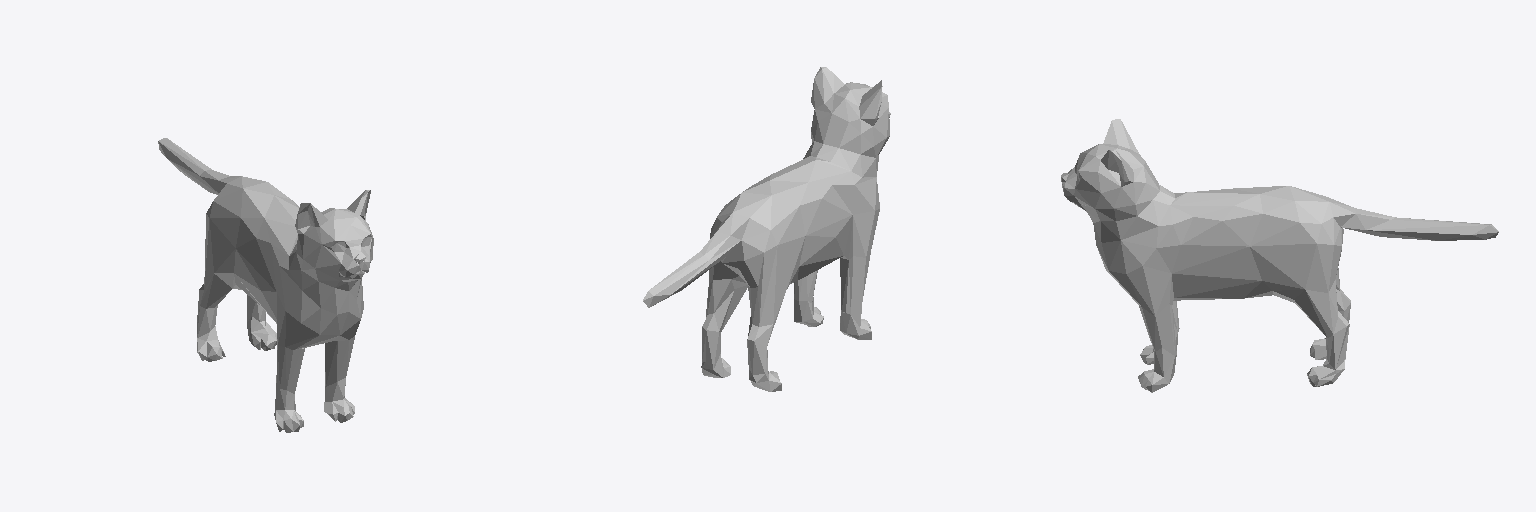
The model's file is lowcat.obj.
3 views of the same model, side by side, from view 1: azimuth 30°, elevation 25°; view 2: azimuth 150°, elevation 25°; view 3: azimuth 270°, elevation 25° (orthographic).
Visible parts, largest first — view 1: 12221_Cat_v1_l3; view 2: 12221_Cat_v1_l3; view 3: 12221_Cat_v1_l3.
Part boxes in pixels (x1,y1,x2,y2): 12221_Cat_v1_l3: (158, 138, 373, 432); 12221_Cat_v1_l3: (643, 67, 890, 391); 12221_Cat_v1_l3: (1061, 119, 1498, 392).
Size of the model in its own units: 13.56 by 37.48 by 61.31.